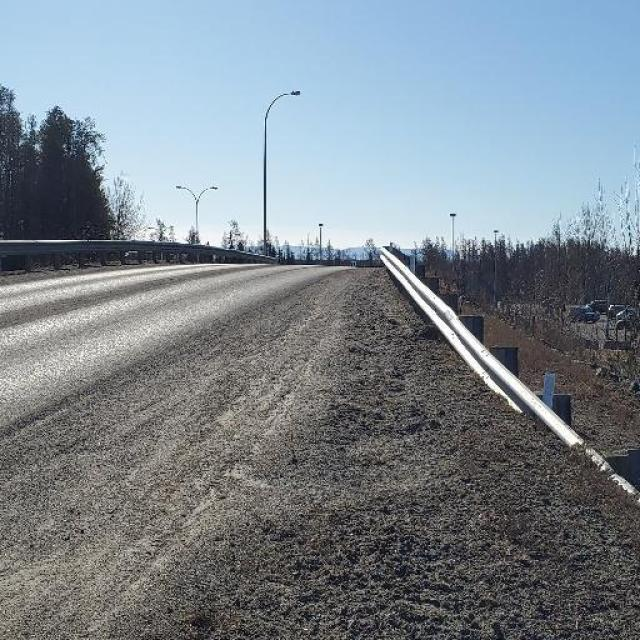Guard rail: (376, 247, 640, 506), (1, 236, 272, 273)
